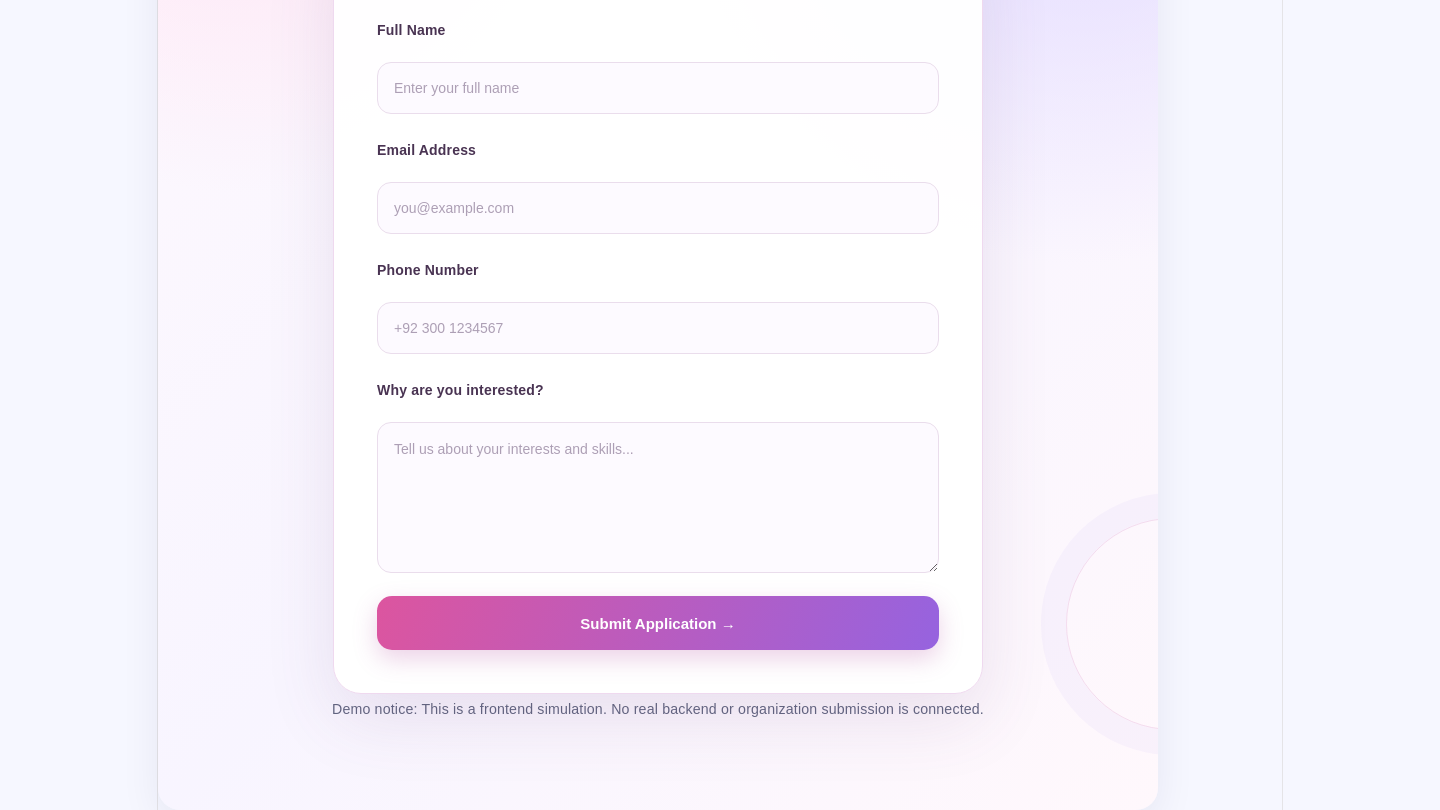
Apply Form Validation › shows validation errors when form is empty
(page scrolled)
Click the button "Submit Application →" at x=658, y=623, box x1=377 y1=596 x2=939 y2=650
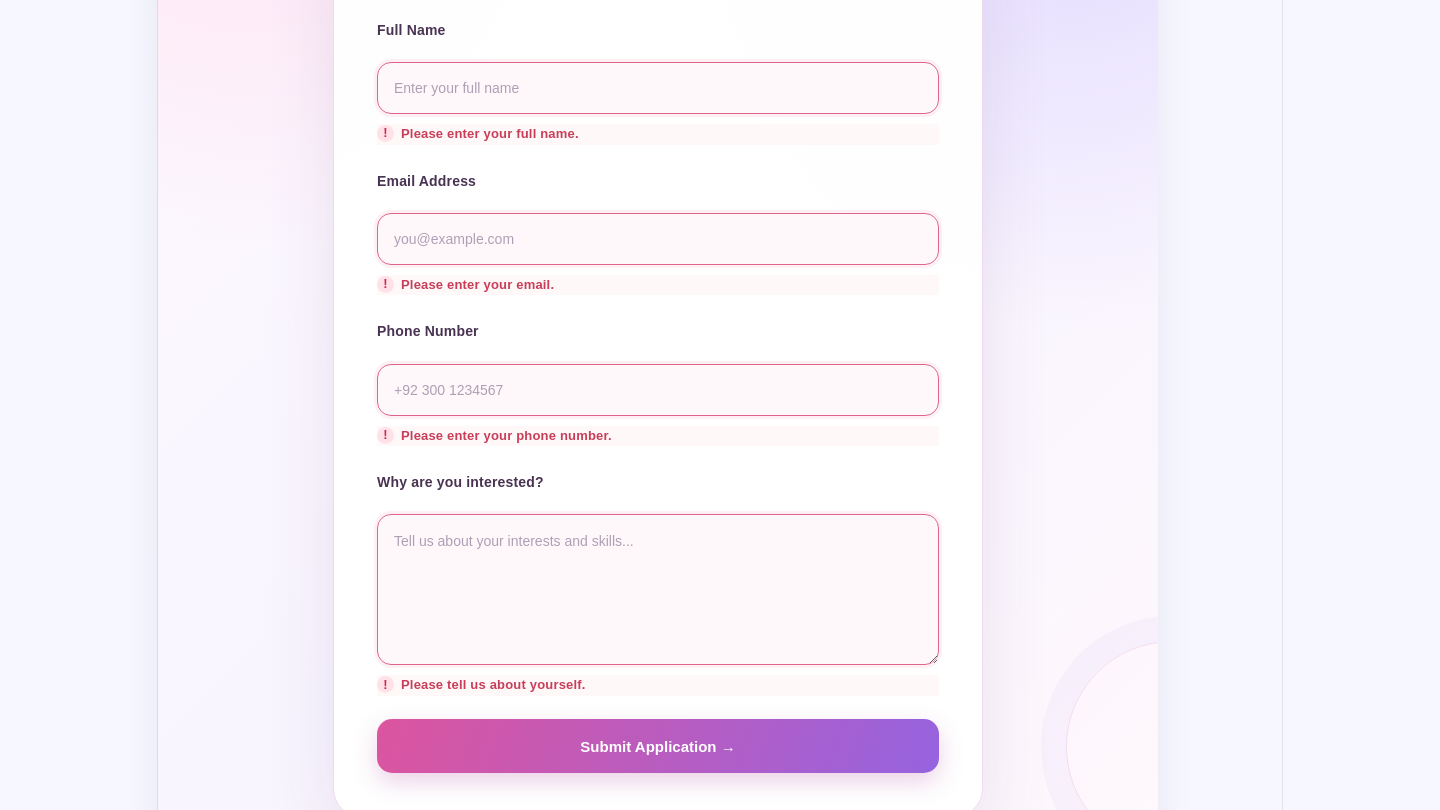
expect the text "Please enter your full name." is shown: met, box x1=377 y1=124 x2=939 y2=145
expect the text "Please enter your email." is shown: met, box x1=377 y1=275 x2=939 y2=296
expect the text "Please enter your phone number." is shown: met, box x1=377 y1=426 x2=939 y2=446
